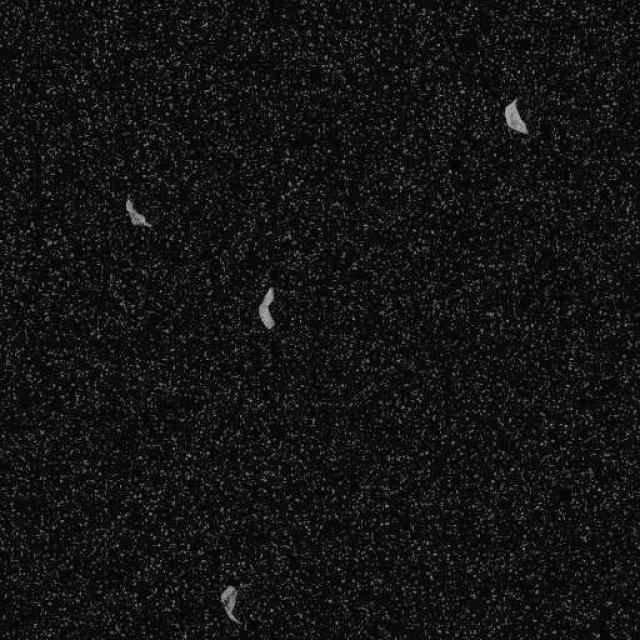D2: (502, 96, 528, 135), (124, 196, 152, 229), (219, 584, 241, 625), (256, 285, 276, 330)
